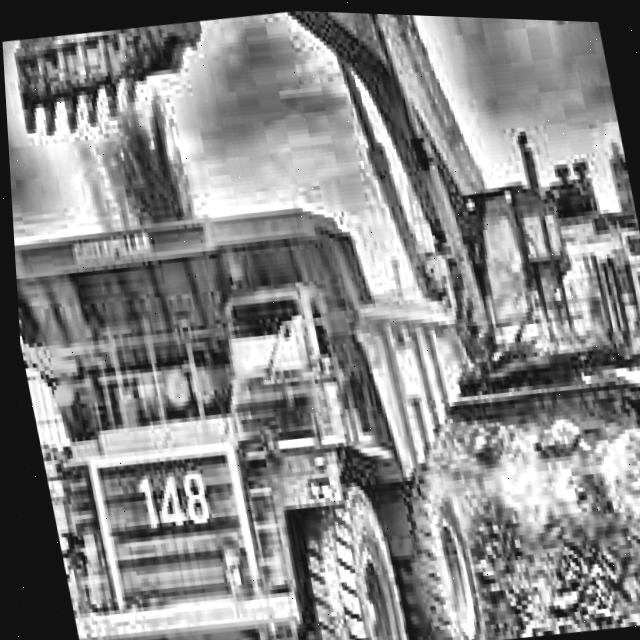dump_truck: (6, 133, 521, 640)
excavator: (0, 0, 640, 548)
